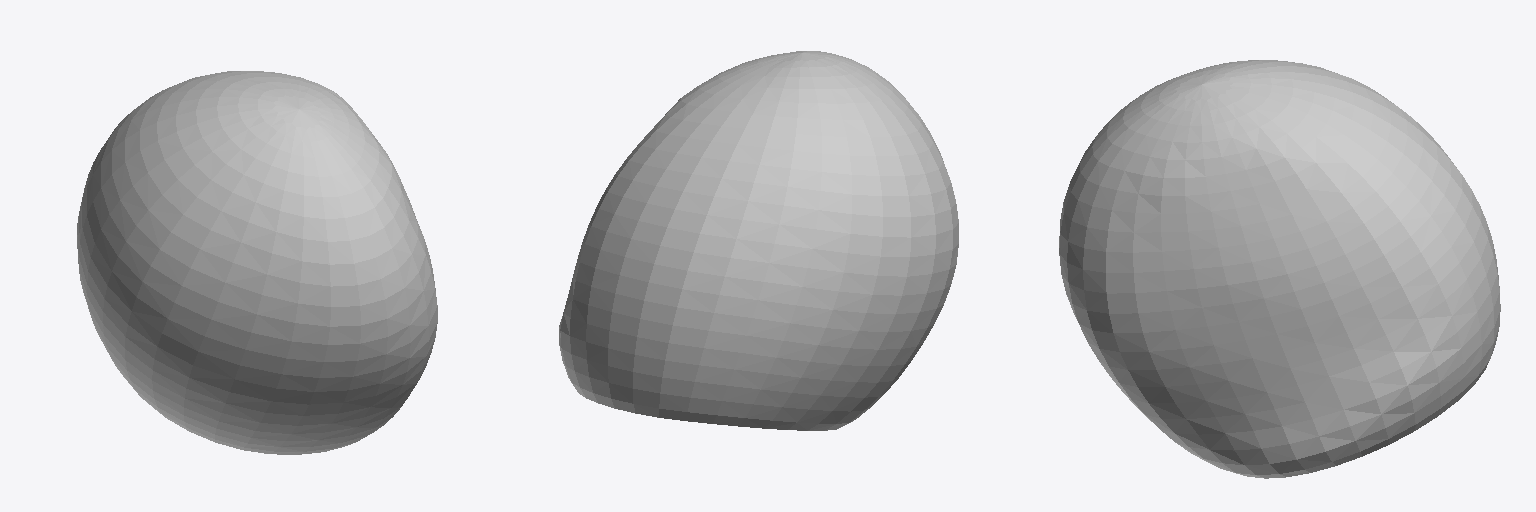
3 renders of one model, left to right at view 1: azimuth 30°, elevation 25°; view 2: azimuth 150°, elevation 25°; view 3: azimuth 270°, elevation 25°, orthographic.
Parts seen in each view (by area): view 1: 2_cancan_dress_body0_model0.001; view 2: 2_cancan_dress_body0_model0.001; view 3: 2_cancan_dress_body0_model0.001.
Part boxes in pixels (x1,y1,x2,y2): 2_cancan_dress_body0_model0.001: (77,71,437,454); 2_cancan_dress_body0_model0.001: (559,51,958,430); 2_cancan_dress_body0_model0.001: (1059,60,1500,478).
Size of the model in its own units: 6 by 6.53 by 7.34.